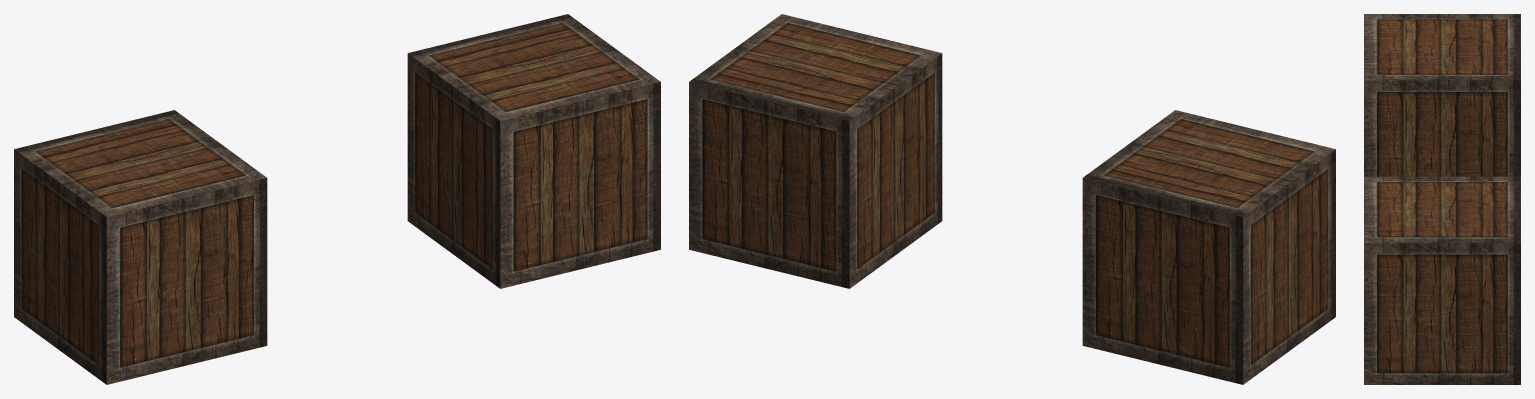
File: box-multiple_groups.obj
3 views of the same model, side by side, from view 1: azimuth 30°, elevation 25°; view 2: azimuth 150°, elevation 25°; view 3: azimuth 270°, elevation 25° (orthographic). The views are drawn at different scales.
Visible parts, largest first — view 1: Cube_Cube.001, Cube_Cube.002; view 2: Cube_Cube.001, Cube_Cube.002; view 3: Cube_Cube.001, Cube_Cube.002.
Boxes of the visible parts, bbox=[...] form: Cube_Cube.001: bbox=[407, 14, 660, 288]; Cube_Cube.002: bbox=[14, 110, 267, 384]; Cube_Cube.001: bbox=[689, 14, 942, 288]; Cube_Cube.002: bbox=[1082, 110, 1335, 384]; Cube_Cube.001: bbox=[1364, 176, 1520, 384]; Cube_Cube.002: bbox=[1364, 14, 1520, 176].
Size of the model in its own units: 6.9 by 2 by 2.
